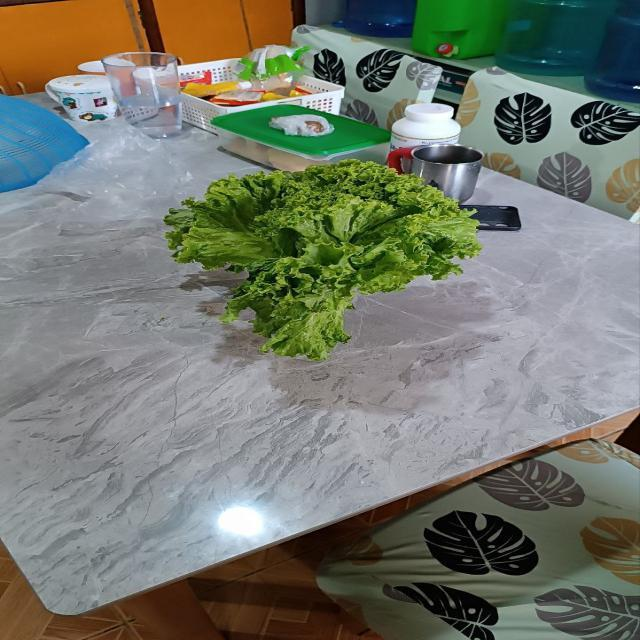Lettuce-Ready-to-Harvest: (168, 154, 474, 367)
